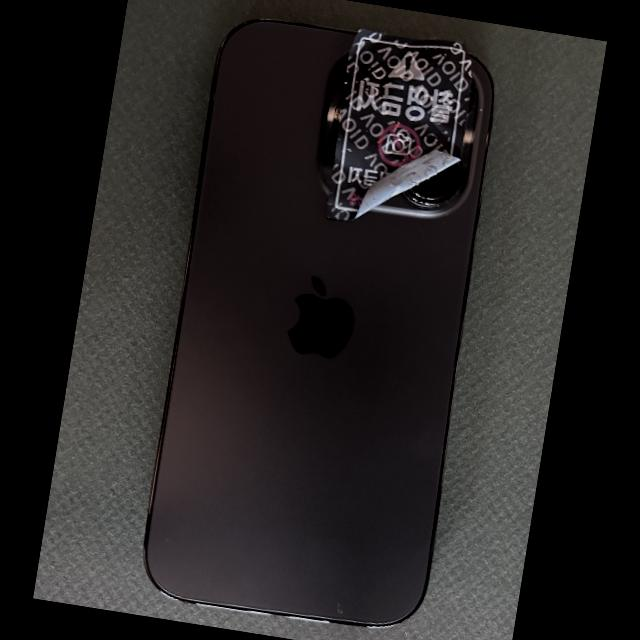lens: (404, 160, 462, 206)
phone: (142, 18, 494, 628)
sticker: (325, 28, 473, 221)
